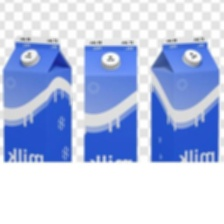carton: (1, 32, 75, 163), (147, 34, 220, 164), (79, 35, 142, 164)
